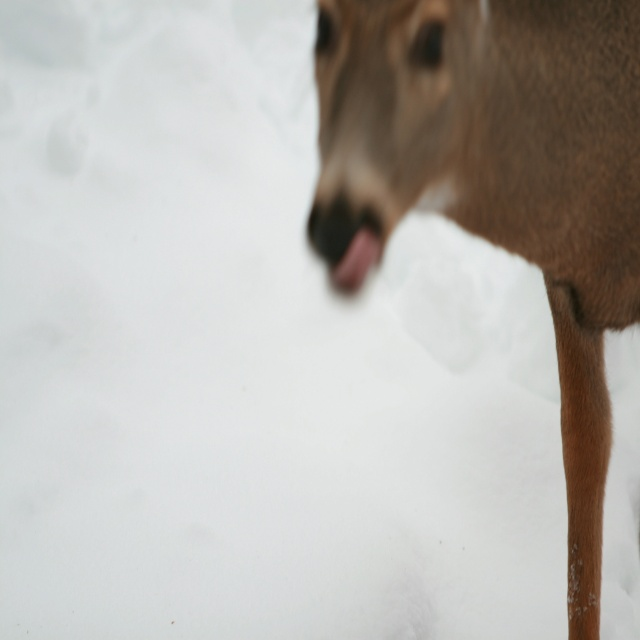Deer: (305, 0, 640, 639)
